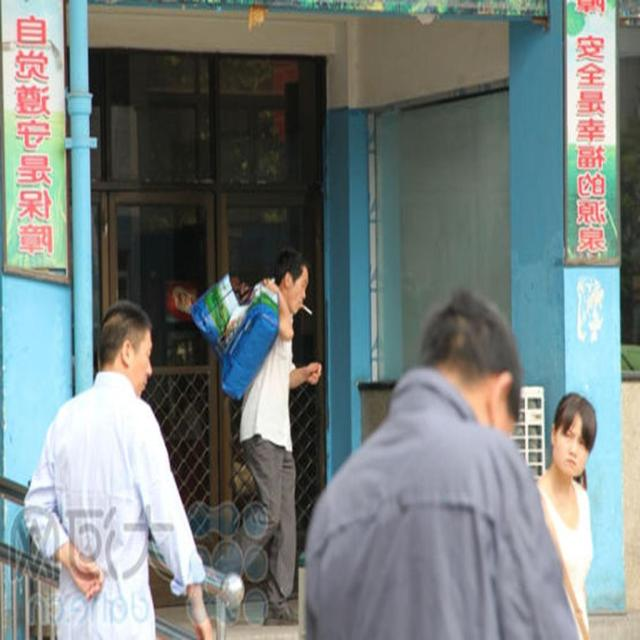smoking: (273, 238, 326, 334)
